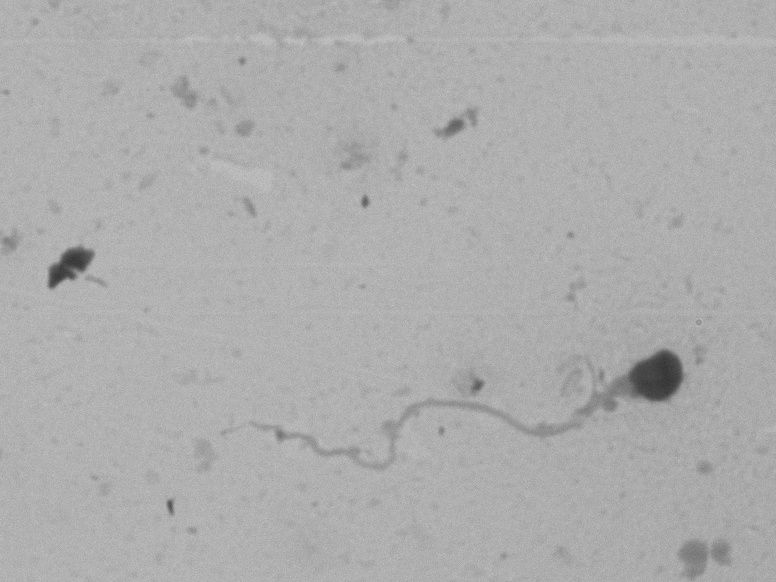Abnormal: (186, 274, 702, 512)
